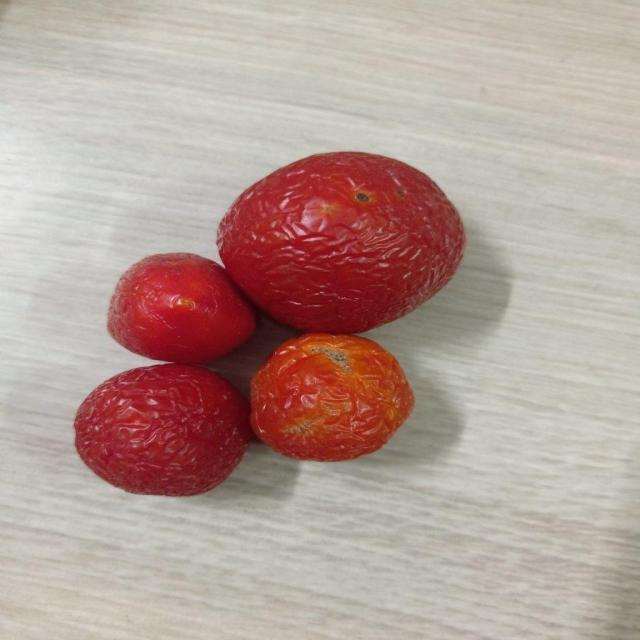overripe: (216, 146, 466, 327), (70, 364, 248, 498), (244, 332, 416, 462), (100, 250, 250, 365)
